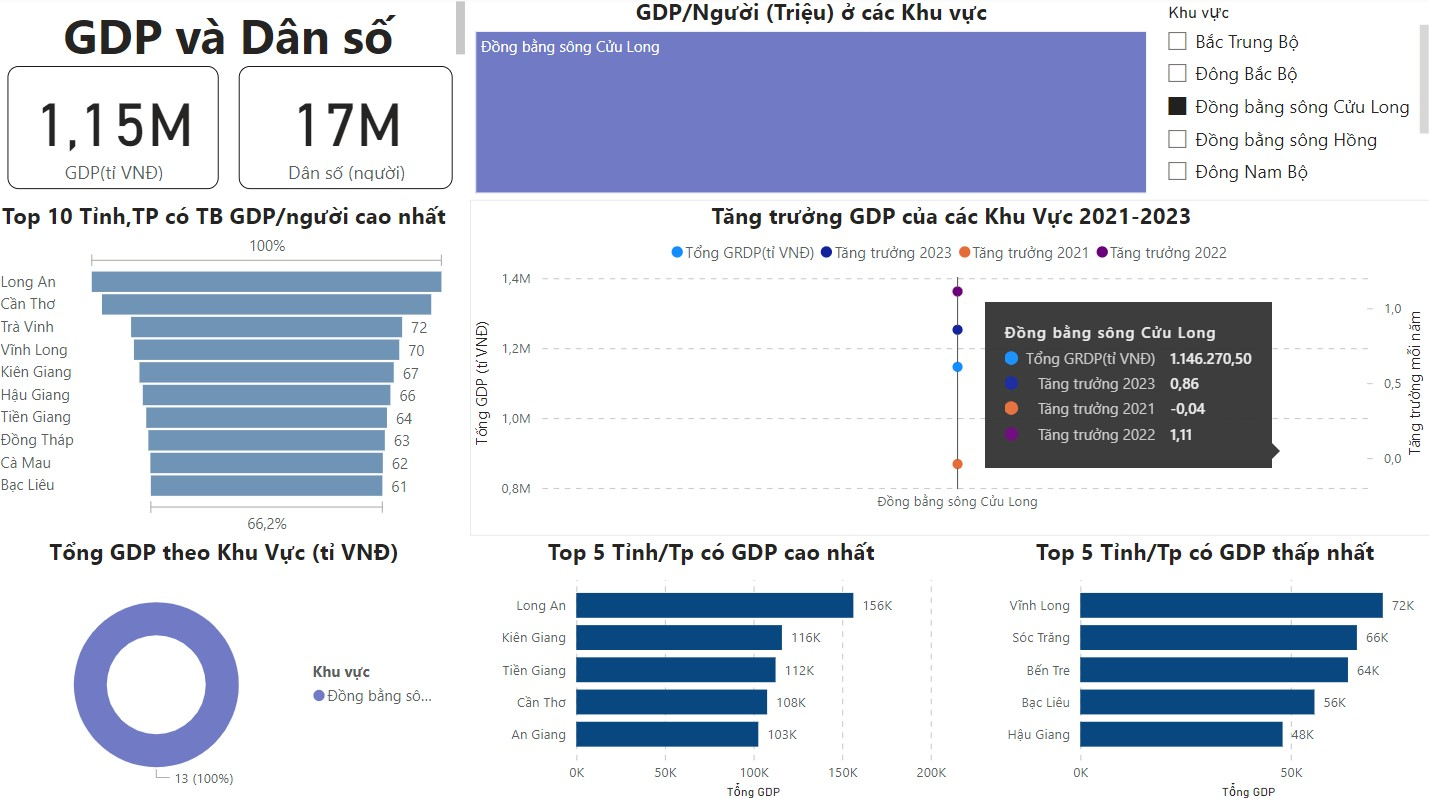

The page's visual inventory and layout, read from the dashboard file:
{"tool":"powerbi","page":{"name":"Page 1","canvas":[1280,720],"ordinal":0},"visuals":[{"type":"card","fields":{"Values":["Sum(DS Tinh.Tổng GRDP(tỉ VNĐ))"]},"box":[10.9,62.7,188.1,109.7],"z":0},{"type":"card","fields":{"Values":["Sum(DS Tinh.Dân số (người))"]},"box":[217.1,62.7,190.6,109.7],"z":1000},{"type":"lineChart","title":"Tăng trưởng GDP của các Khu Vực 2021-2023","fields":{"Y":["Sum(DS Tinh.Tổng GRDP(tỉ VNĐ))"],"Y2":["Sum(DS Tinh.Tăng trưởng 2023)","Sum(DS Tinh.Tăng trưởng 2021)","Sum(DS Tinh.Tăng trưởng 2022)"],"Category":["DS Tinh.Khu vực"]},"box":[423.3,180.9,857.5,300.3],"z":2000},{"type":"donutChart","title":"Tổng GDP theo Khu Vực (tỷ VNĐ)","fields":{"Category":["DS Tinh.Khu vực"],"Y":["CountNonNull(DS Tinh.Tổng GRDP(tỉ VNĐ))"]},"box":[0,481.2,407.6,238.8],"z":3000},{"type":"barChart","title":"Top 5 Tỉnh/Tp có GDP cao nhất","fields":{"Category":["DS Tinh.Tên tỉnh, thành phố"],"Y":["Sum(DS Tinh.Tổng GRDP(tỉ VNĐ))"]},"box":[423.3,481.2,429.3,238.8],"z":4000},{"type":"barChart","title":"Top 5 Tỉnh/Tp có GDP thấp nhất","fields":{"Category":["DS Tinh.Tên tỉnh, thành phố"],"Y":["Sum(DS Tinh.Tổng GRDP(tỉ VNĐ))"]},"box":[873.2,481.2,407.6,238.8],"z":5000},{"type":"slicer","fields":{"Values":["DS Tinh.Khu vực"]},"box":[1031.2,0,249.6,180.9],"z":6000},{"type":"textbox","box":[0,0,423.3,61.5],"z":7000},{"type":"treemap","title":"GDP/Người (Triệu) ở các Khu vực","fields":{"Group":["DS Tinh.Khu vực"],"Values":["Sum(DS Tinh.GDP/Người (Triệu))"]},"box":[423.3,0,607.8,180.9],"z":8000},{"type":"funnel","title":"Top 10 Tỉnh,TP có GDP/người cao nhất","fields":{"Category":["DS Tinh.Tên tỉnh, thành phố"],"Y":["Avg(DS Tinh.GDP/Người (Triệu))"]},"box":[0,180.9,407.6,301.5],"z":9000}]}

Visuals, with their boxes in screenshot pixels (x1, y1, x2, y2), scaled from the page's 1280x720 canvas onto the 1429x798 screenshot:
card - Sum(DS Tinh.Tổng GRDP(tỉ VNĐ)): [12,69,222,191]
card - Sum(DS Tinh.Dân số (người)): [242,69,455,191]
"Tăng trưởng GDP của các Khu Vực 2021-2023" lineChart: [473,200,1428,533]
"Tổng GDP theo Khu Vực (tỷ VNĐ)" donutChart: [0,533,455,797]
"Top 5 Tỉnh/Tp có GDP cao nhất" barChart: [473,533,952,797]
"Top 5 Tỉnh/Tp có GDP thấp nhất" barChart: [975,533,1428,797]
slicer - DS Tinh.Khu vực: [1151,0,1428,200]
textbox: [0,0,473,68]
"GDP/Người (Triệu) ở các Khu vực" treemap: [473,0,1151,200]
"Top 10 Tỉnh,TP có GDP/người cao nhất" funnel: [0,200,455,535]
